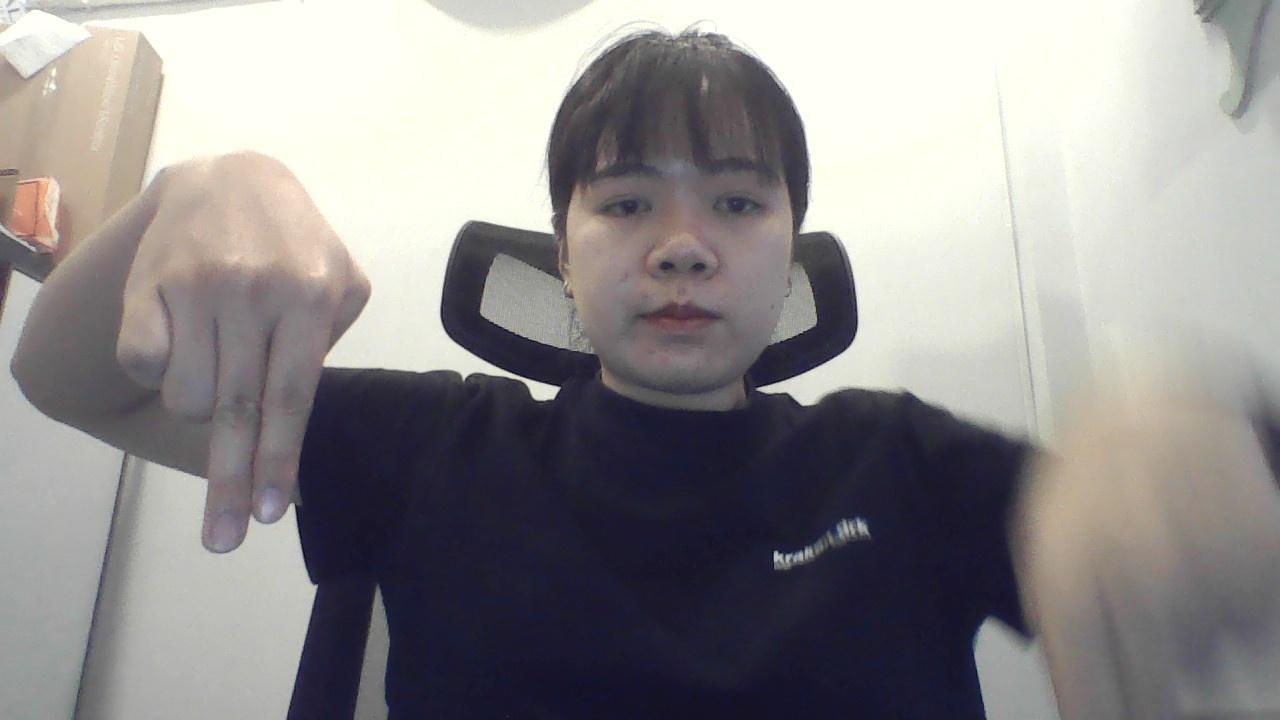N: (124, 162, 381, 557)
